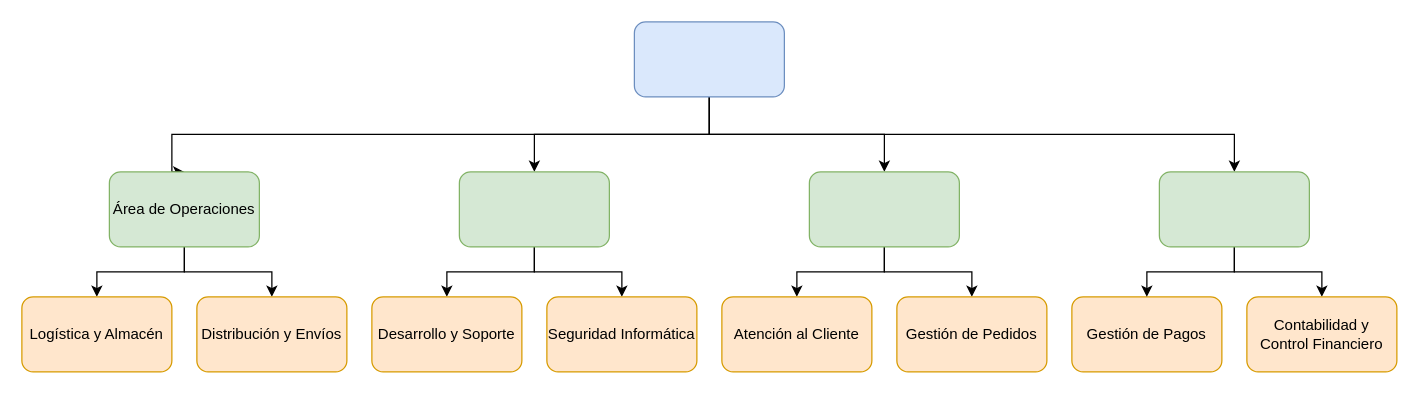
Image size: 1419x394. Some labels were removed from this diagram. The shapes that lost their labels are listed below. From the top down, each one's centre as x and y in pixels, then its label:
(708,59): CEO
(533,209): Área de Tecnología
(883,209): Ventas y Atenci ó n al Cliente
(1233,209): Finanzas
